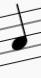A: (9, 1, 30, 64)
